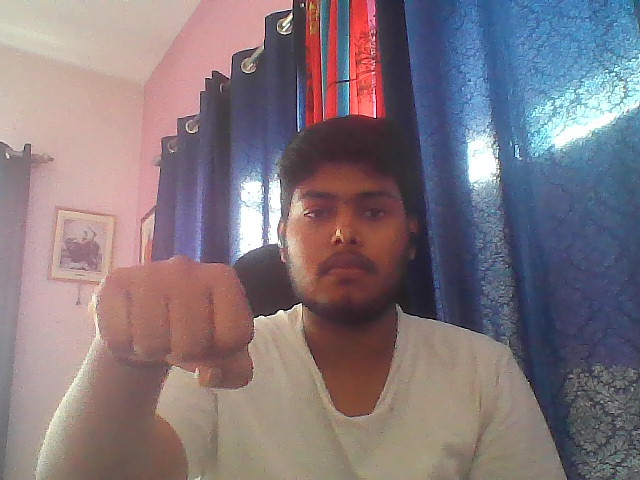Yes: (80, 250, 275, 403)
